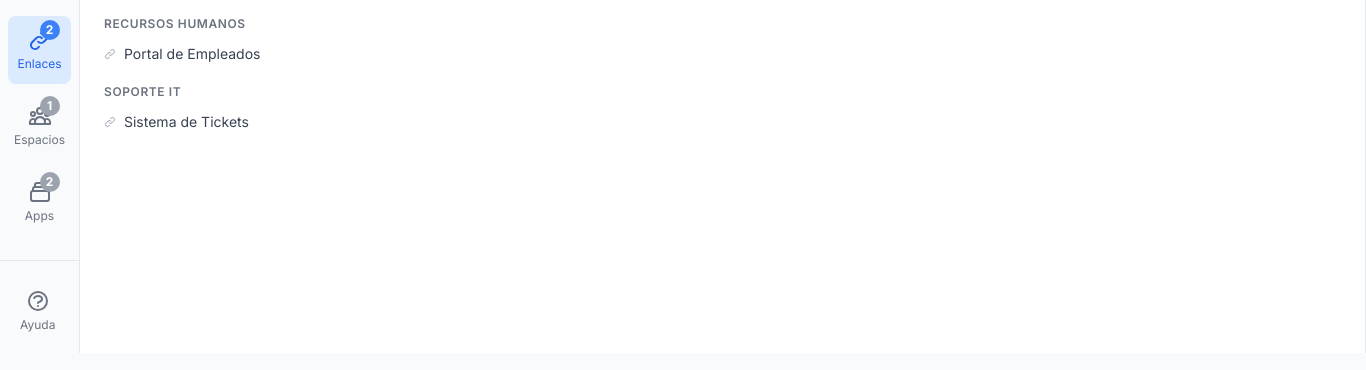
SidebarTabs › switches tabs when clicked
// Click on spaces tab
Click the tab "1 Espacios" at (40, 126), box top-left (8, 92), bottom-right (71, 160)
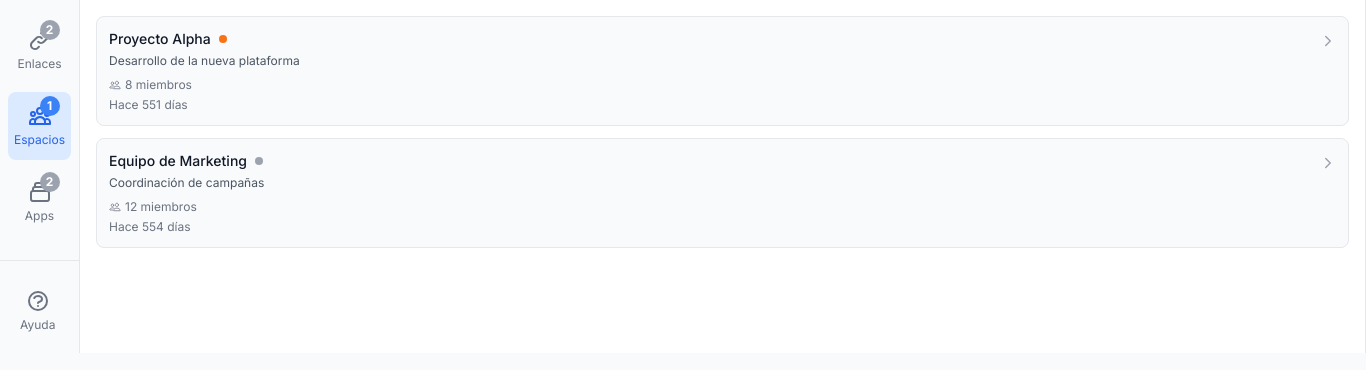
Expected: the heading "Proyecto Alpha" is shown, top-left (109, 29), bottom-right (211, 49)
